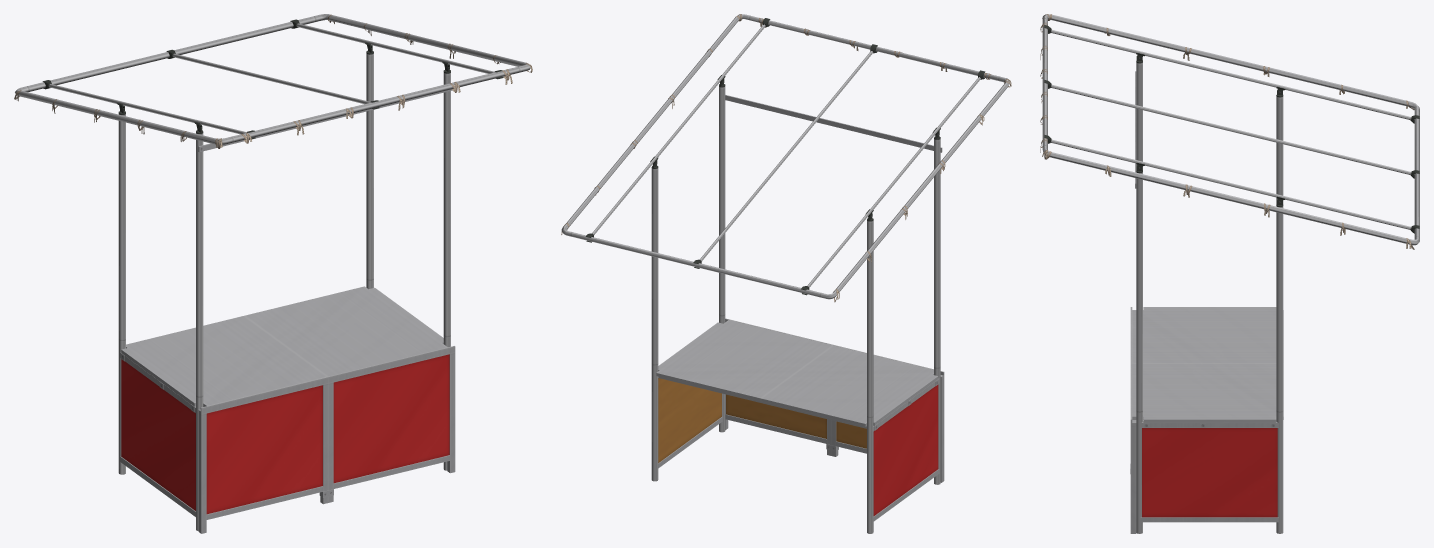
The model's file is jsf_4P_s01_c06_t01.fbx.
3 renders of one model, left to right at view 1: azimuth 30°, elevation 25°; view 2: azimuth 150°, elevation 25°; view 3: azimuth 270°, elevation 25°, orthographic. The views are drawn at different scales.
Visible parts, largest first — view 1: Base_s01_c06, Table_4P_s01_t01, Pillar4_s01, Rope_4P_s01; view 2: Pillar4_s01, Table_4P_s01_t01, Base_s01_c06, Rope_4P_s01; view 3: Pillar4_s01, Table_4P_s01_t01, Base_s01_c06, Rope_4P_s01.
Part boxes in pixels (box(x1,y1,x2,y2)): Base_s01_c06: box(120, 346, 455, 533); Table_4P_s01_t01: box(121, 286, 447, 412); Pillar4_s01: box(15, 14, 530, 530); Rope_4P_s01: box(14, 14, 532, 148); Pillar4_s01: box(561, 14, 1010, 533); Table_4P_s01_t01: box(656, 320, 938, 430); Base_s01_c06: box(658, 318, 944, 521); Rope_4P_s01: box(561, 14, 1011, 302); Pillar4_s01: box(1042, 14, 1419, 533); Table_4P_s01_t01: box(1132, 307, 1283, 427); Base_s01_c06: box(1130, 307, 1278, 533); Rope_4P_s01: box(1040, 14, 1414, 249).
Size of the model in its own units: 186 by 243 by 211.
